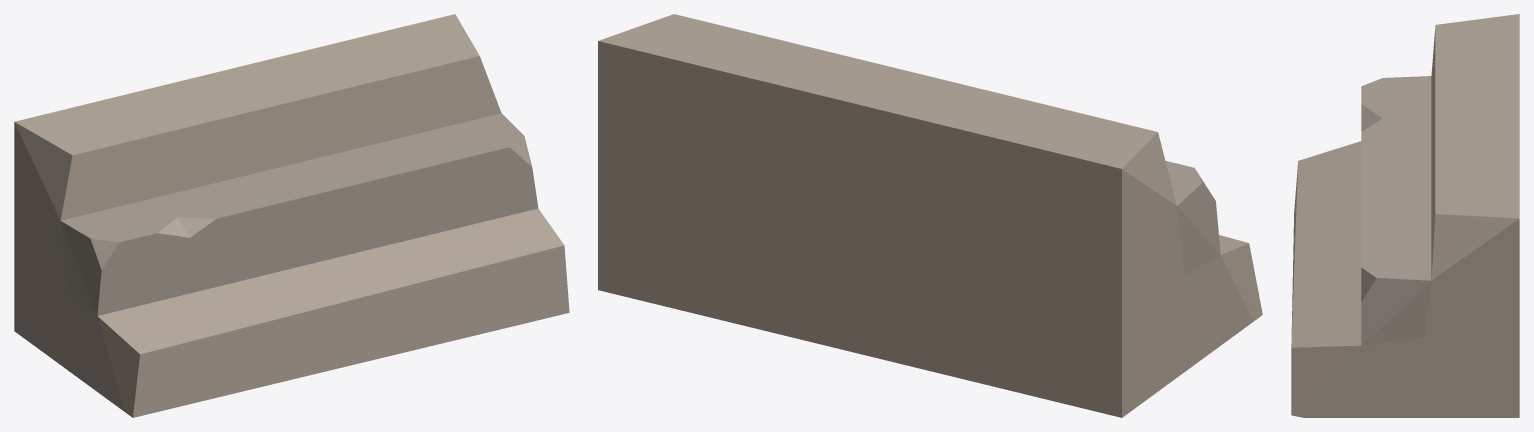
Rendered from SM_Bld_Village_Stairs_Small_02.fbx.
3 renders of one model, left to right at view 1: azimuth 30°, elevation 25°; view 2: azimuth 150°, elevation 25°; view 3: azimuth 270°, elevation 25°, orthographic. The views are drawn at different scales.
Parts seen in each view (by area): view 1: SM_Bld_Village_Stairs_Small_02; view 2: SM_Bld_Village_Stairs_Small_02; view 3: SM_Bld_Village_Stairs_Small_02.
Part boxes in pixels (x1,y1,x2,y2): SM_Bld_Village_Stairs_Small_02: (14, 14, 569, 417); SM_Bld_Village_Stairs_Small_02: (598, 14, 1262, 417); SM_Bld_Village_Stairs_Small_02: (1291, 14, 1519, 417).
Bounding box in the file's own units: 184 × 83.48 × 86.54.
